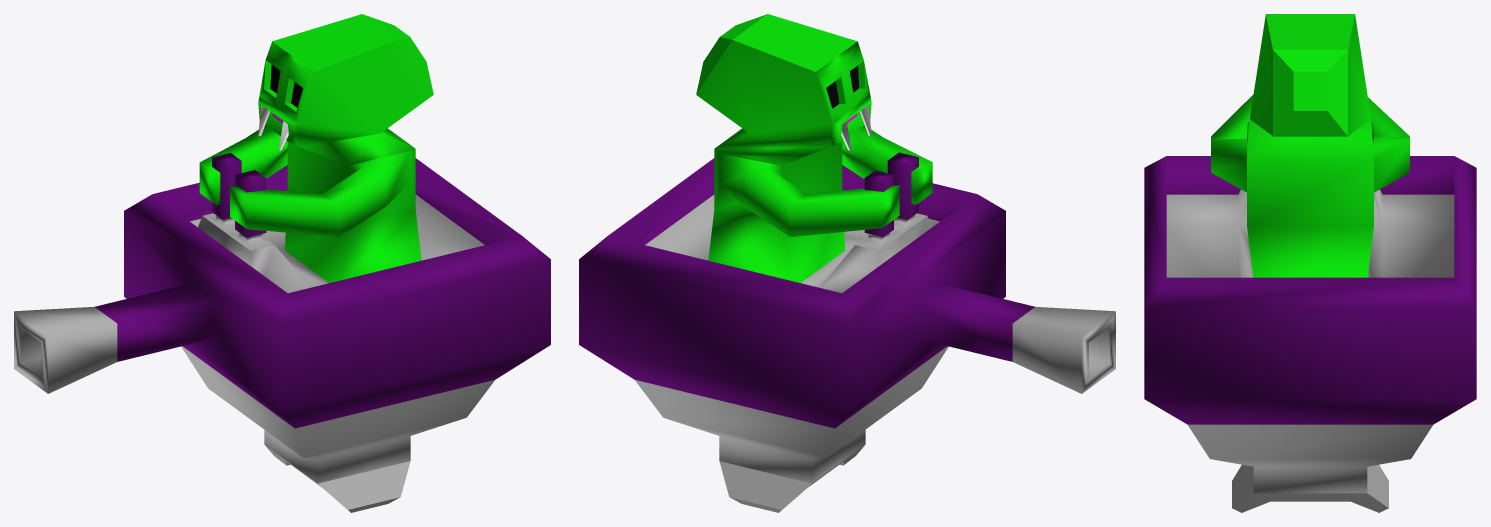
Rendered from LilFucker.fbx.
3 views of the same model, side by side, from view 1: azimuth 30°, elevation 25°; view 2: azimuth 150°, elevation 25°; view 3: azimuth 270°, elevation 25° (orthographic). The views are drawn at different scales.
Parts seen in each view (by area): view 1: pCube1; view 2: pCube1; view 3: pCube1.
Part boxes in pixels (x1=…): pCube1: x1=14, y1=14, x2=550, y2=512; pCube1: x1=579, y1=14, x2=1115, y2=512; pCube1: x1=1144, y1=14, x2=1476, y2=512.
Bounding box in the file's own units: 4.76 × 4.61 × 2.92.
